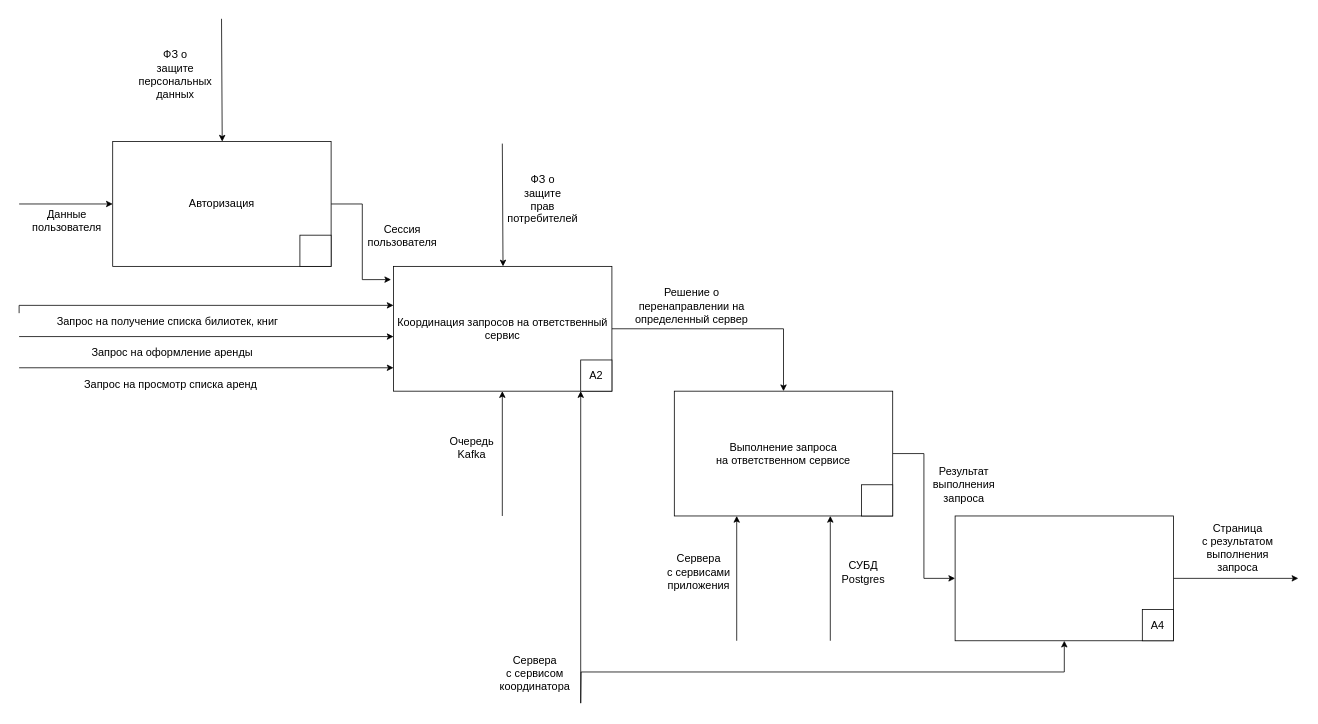
Some shapes in this 1318 by 724 pixel diagram are drawn without their labels. The box of each missing label's shape, as (x1, y1, x2, y2) in pixels:
A1: (299, 234, 331, 266)
A3: (861, 484, 893, 516)
Отпрвка результата выполнения запроса для формирования страницы-ответа: (954, 515, 1174, 641)
